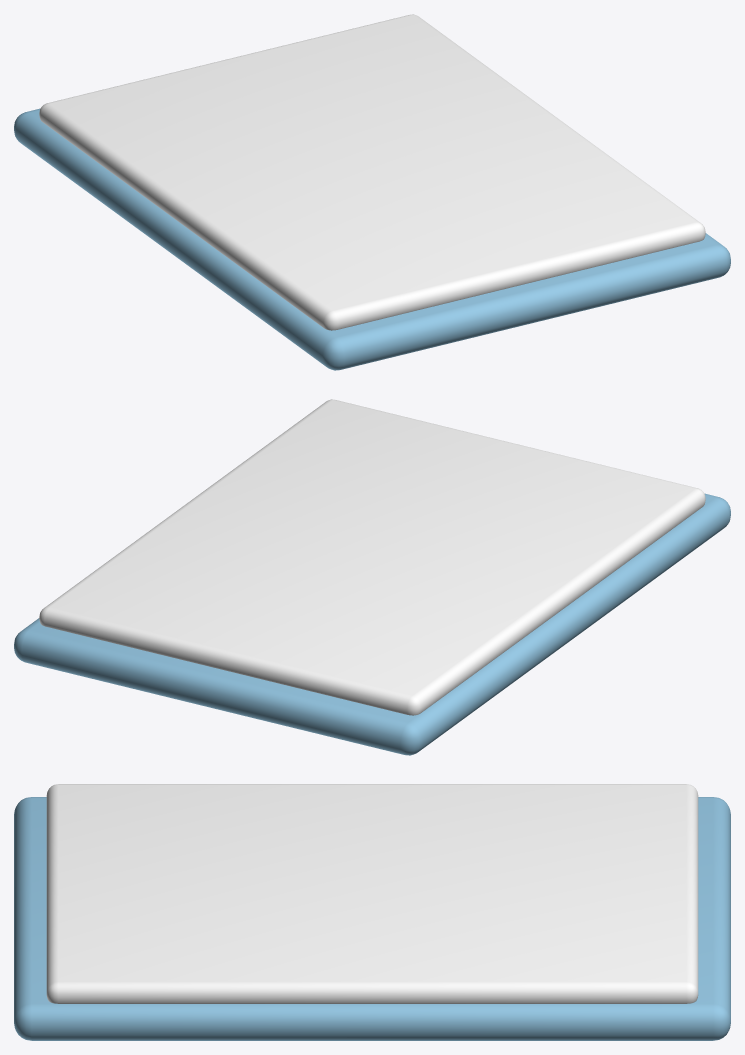
File: lead-notebook.glb
3 views of the same model, one above another, from view 1: azimuth 30°, elevation 25°; view 2: azimuth 150°, elevation 25°; view 3: azimuth 270°, elevation 25° (orthographic). The views are drawn at different scales.
Parts seen in each view (by area): view 1: Pages, Cover; view 2: Pages, Cover; view 3: Pages, Cover.
Boxes of the visible parts, left/top/right/bottom form: Pages: left=39, top=14, right=705, bottom=330; Cover: left=14, top=108, right=730, bottom=370; Pages: left=39, top=399, right=705, bottom=715; Cover: left=14, top=493, right=730, bottom=755; Pages: left=46, top=784, right=698, bottom=1003; Cover: left=14, top=797, right=730, bottom=1040.
Size of the model in its own units: 0.16 by 0.018 by 0.22.
